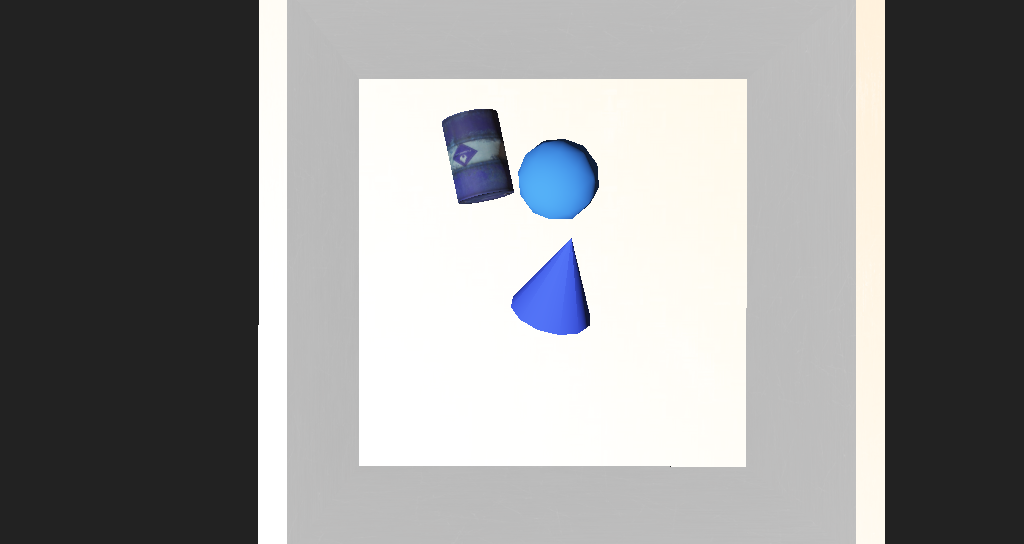cone: (421, 179, 482, 231)
cylinder: (468, 236, 556, 308)
sphere: (482, 198, 542, 241)
